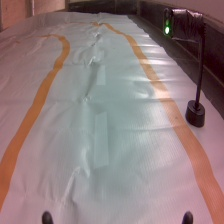green: (161, 6, 209, 128)
